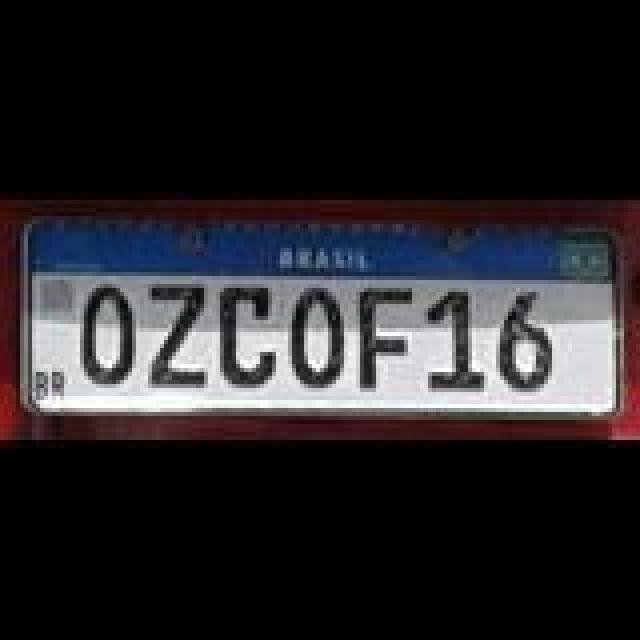1: (424, 288, 488, 400)
6: (490, 280, 550, 392)
C: (220, 276, 284, 388)
D: (290, 280, 350, 392)
F: (362, 284, 422, 388)
O: (80, 282, 136, 390)
Z: (146, 274, 206, 382)
